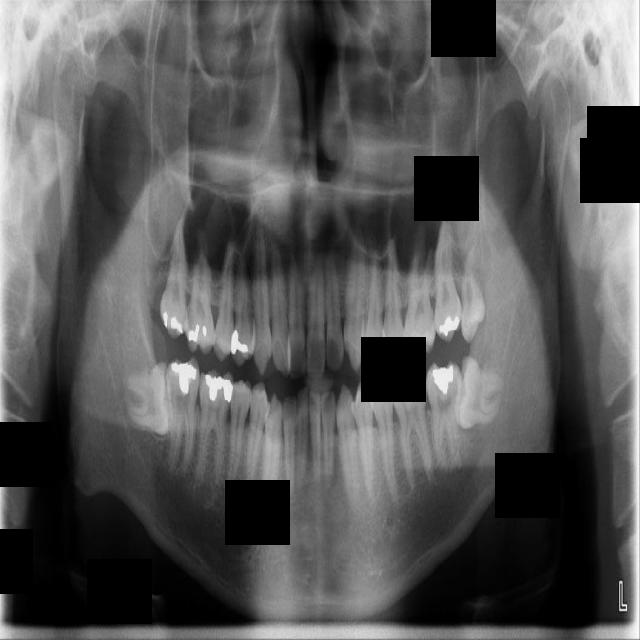52: (194, 367, 236, 419), (424, 359, 465, 406), (163, 355, 202, 402), (158, 286, 190, 340), (186, 301, 216, 356), (435, 296, 463, 343), (230, 320, 256, 367)
73: (606, 576, 610, 592)
BioHorizons Implant: (435, 221, 463, 341)
BioLife Implant: (461, 244, 485, 343)
Biomet 3i Implant: (450, 355, 508, 435)
Blue Sky Bio Implant: (426, 361, 462, 474)
Caries: (155, 224, 189, 339)
Implant: (165, 357, 200, 475)
Keystone Dental Implant: (123, 361, 178, 440)
